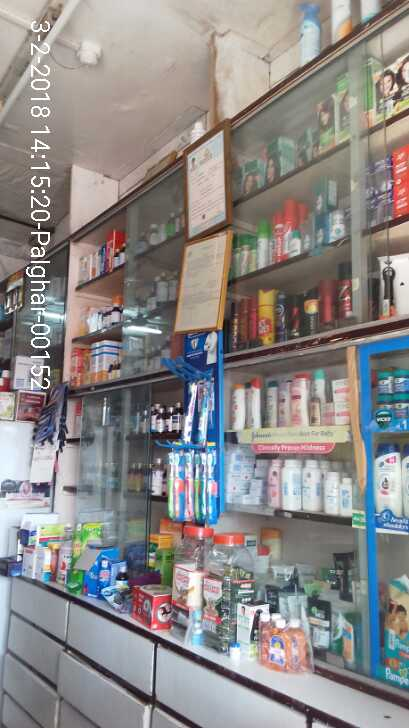beauty: (367, 439, 406, 524)
pharmacy: (368, 364, 409, 420)
